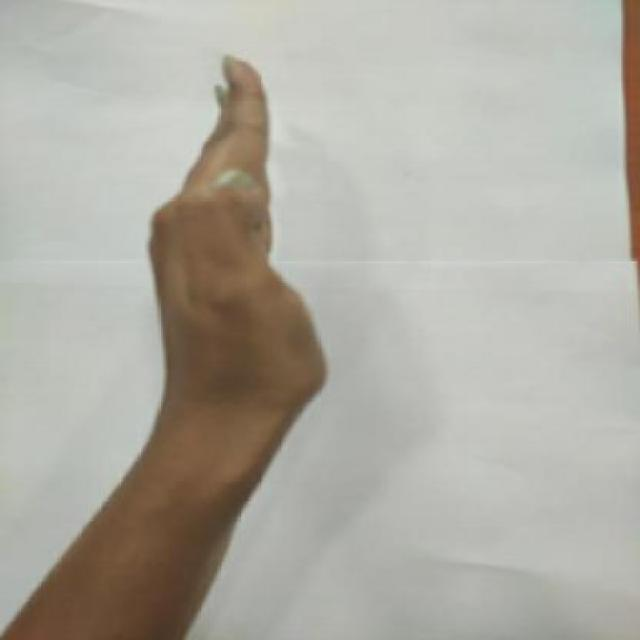without_gloves: (113, 34, 367, 514)
